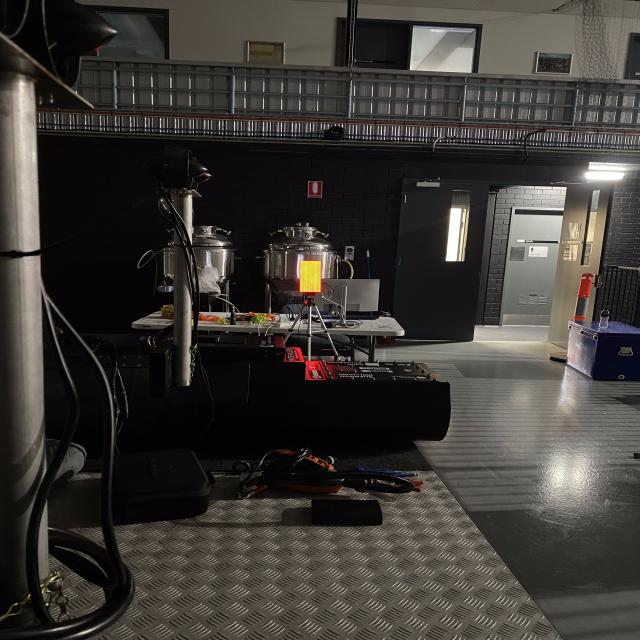matrix: (300, 260, 322, 292)
